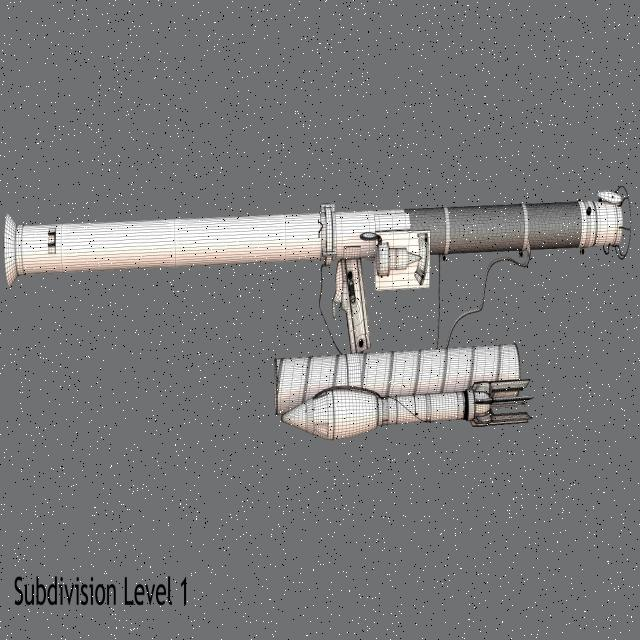bazooka: (1, 179, 638, 456)
